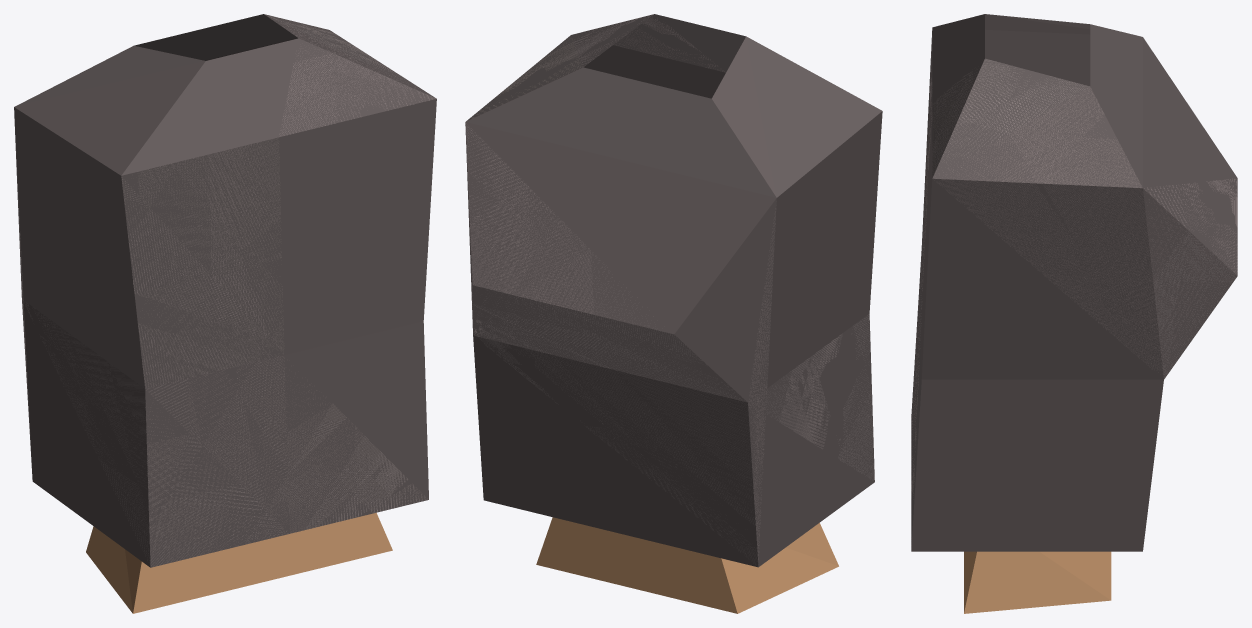
File: itm_model0_rune_chainbody.obj
The picture shows the model from 3 angles, left to right: view 1: azimuth 30°, elevation 25°; view 2: azimuth 150°, elevation 25°; view 3: azimuth 270°, elevation 25°; orthographic projection.
Size of the model in its own units: 0.2656 by 0.4219 by 0.2422.
